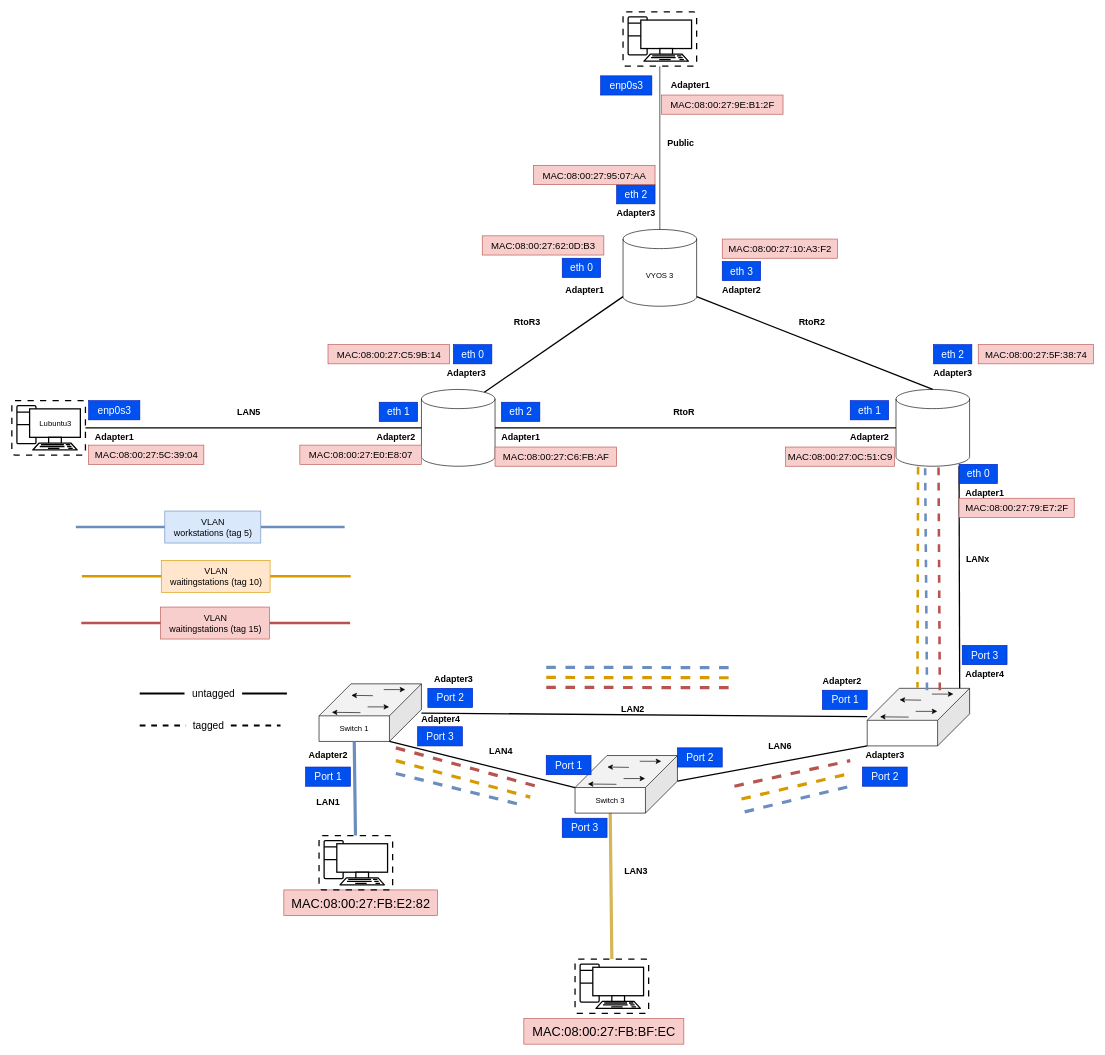
This 1105x1055 diagram has some shape labels left out. The shapes that lost their labels are listed below. From the top down, each one's box as (x1, y1, x2, y2) in pixels, then its label:
(622, 11, 697, 67): Lubuntu4
(421, 389, 495, 466): VYOS 2
(895, 389, 970, 466): VYOS 1
(867, 688, 970, 746): Switch 2
(318, 835, 393, 890): Lubuntu1
(574, 958, 649, 1014): Lubuntu2
